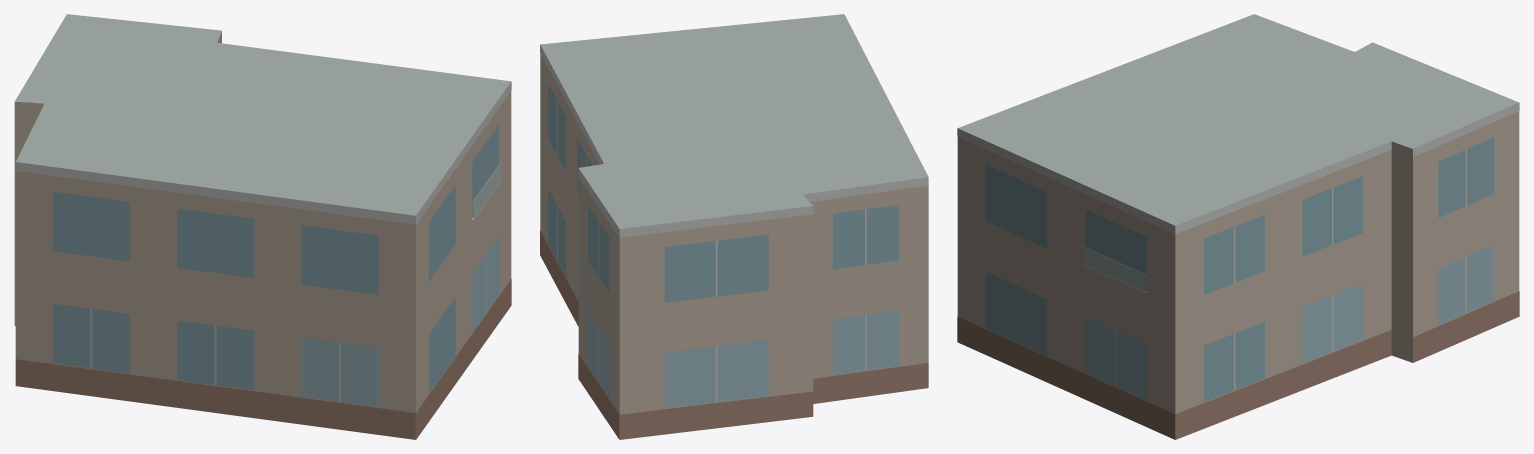
Rendered from survey-upis-32948823.glb.
3 renders of one model, left to right at view 1: azimuth 30°, elevation 25°; view 2: azimuth 150°, elevation 25°; view 3: azimuth 270°, elevation 25°, orthographic. The views are drawn at different scales.
Parts seen in each view (by area): view 1: survey-upis-32948823.tmp; view 2: survey-upis-32948823.tmp; view 3: survey-upis-32948823.tmp.
Boxes of the visible parts, left/top/right/bottom form: survey-upis-32948823.tmp: left=14, top=14, right=511, bottom=439; survey-upis-32948823.tmp: left=540, top=14, right=928, bottom=439; survey-upis-32948823.tmp: left=957, top=14, right=1519, bottom=439.
Bounding box in the file's own units: 12.95 × 6.1 × 14.52.
